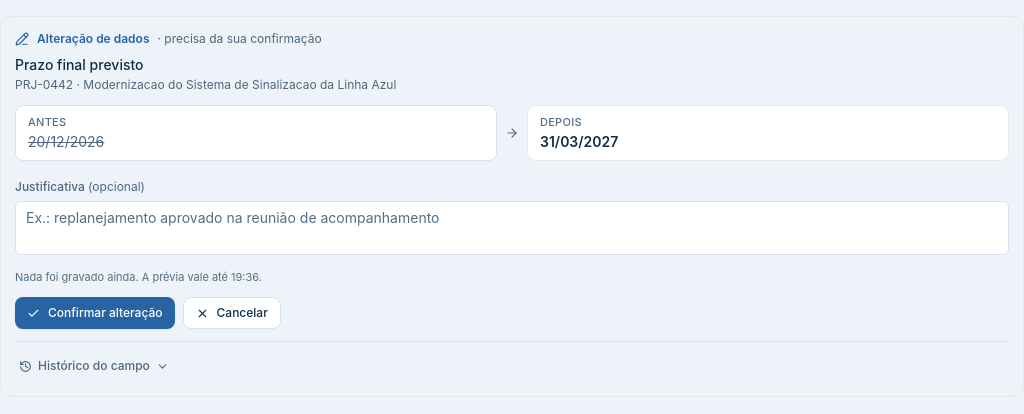
Scenario: DataChangeCard › estado de confirmação: grava, mostra o resultado e oferece desfazer
Type "Replanejamento aprovado em 03/10" into the text box labelled "Justificativa (opcional)" at (512, 228), box [15,201,1009,255]
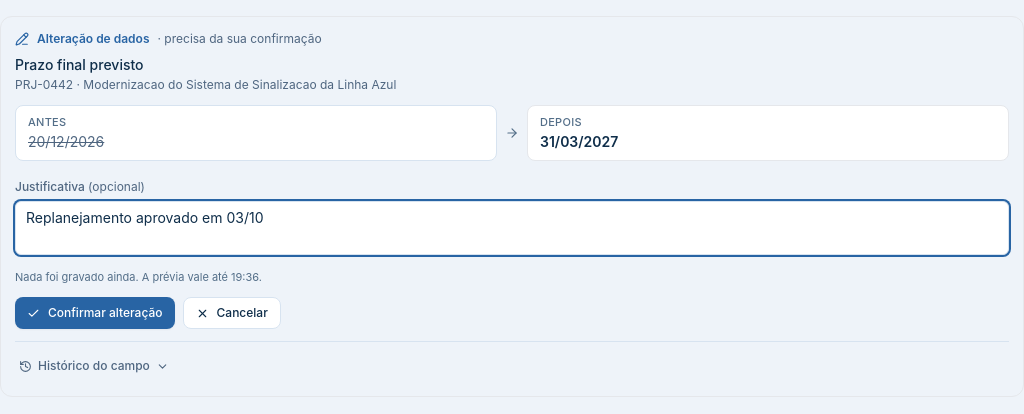
Click the button "Confirmar alteração" at (95, 313), box [15,297,174,329]
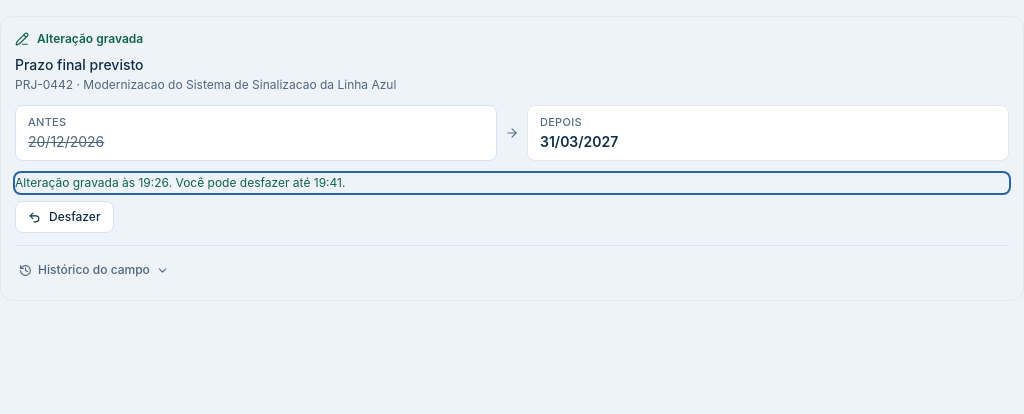
Expected: the heading "Alteração gravada" is shown, [15,31,143,46]
Expected: the message shows "Alteração gravada às", [15,175,138,190]
Expected: the message shows "Você pode desfazer até", [172,175,345,190]
